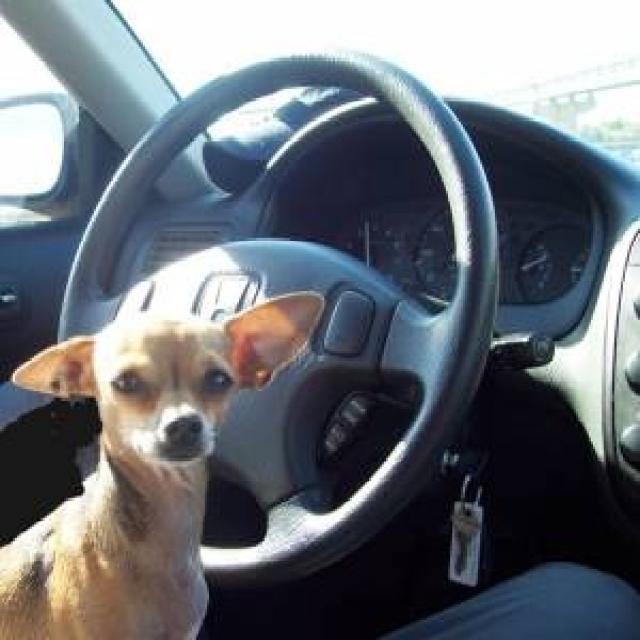dog-chihuahua: (2, 287, 331, 636)
